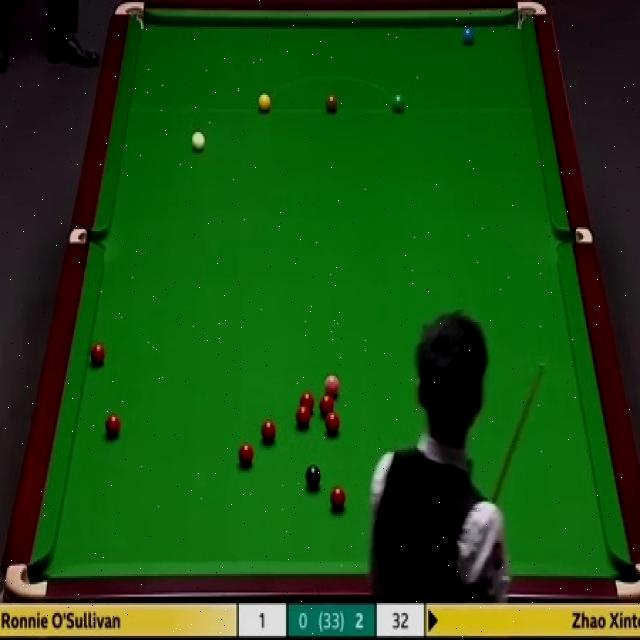black-ball: (304, 464, 322, 494)
blue-ball: (461, 23, 476, 48)
brown-ball: (325, 94, 339, 115)
green-ball: (391, 93, 406, 115)
pink-ball: (322, 372, 341, 398)
red-ball: (102, 410, 122, 440), (238, 443, 255, 471), (260, 418, 277, 443), (331, 487, 348, 512), (89, 342, 105, 367), (295, 406, 311, 430), (298, 391, 315, 413), (325, 411, 340, 434), (318, 394, 335, 414)
white-ball: (188, 125, 207, 156)
yellow-ball: (258, 92, 272, 114)
